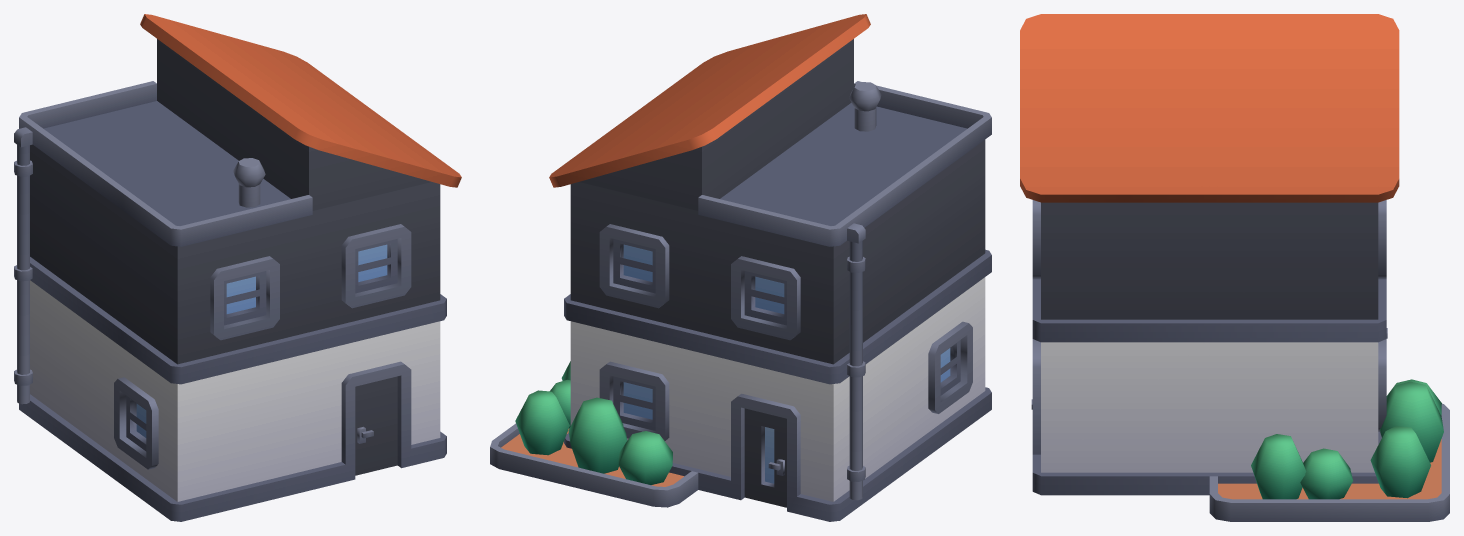
The model's file is house_suburb_l_warm.glb.
3 views of the same model, side by side, from view 1: azimuth 30°, elevation 25°; view 2: azimuth 150°, elevation 25°; view 3: azimuth 270°, elevation 25° (orthographic). The views are drawn at different scales.
Parts seen in each view (by area): view 1: building-type-l; view 2: building-type-l; view 3: building-type-l.
Boxes of the visible parts, bbox=[...] form: building-type-l: bbox=[14, 14, 461, 521]; building-type-l: bbox=[490, 14, 991, 521]; building-type-l: bbox=[1020, 14, 1449, 521].
Size of the model in its own units: 1.03 by 1.05 by 1.02.
Materials: 1 (1 with a texture image).
